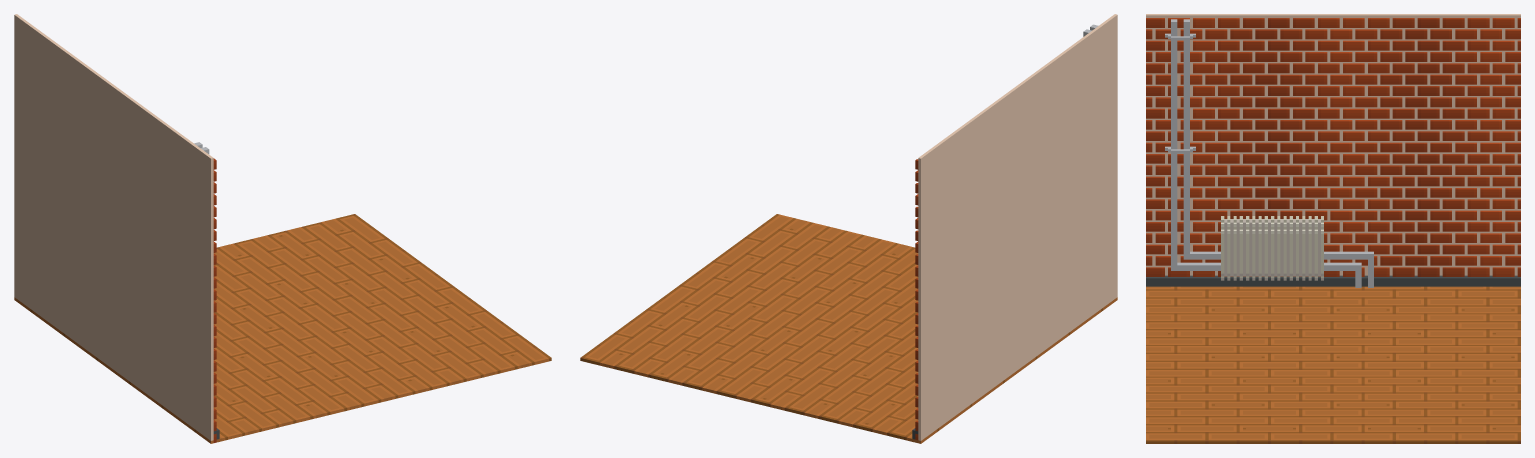
Rendered from room3.2_0_lev1_lev3.glb.
The picture shows the model from 3 angles, left to right: view 1: azimuth 30°, elevation 25°; view 2: azimuth 150°, elevation 25°; view 3: azimuth 270°, elevation 25°; orthographic projection. The views are drawn at different scales.
Visible parts, largest first — view 1: room3.2_0_lev1_lev3; view 2: room3.2_0_lev1_lev3; view 3: room3.2_0_lev1_lev3.
Part boxes in pixels (<box>): room3.2_0_lev1_lev3: <box>14,14,551,443</box>; room3.2_0_lev1_lev3: <box>580,14,1117,443</box>; room3.2_0_lev1_lev3: <box>1146,14,1520,443</box>.
Bounding box in the file's own units: 8.97 × 7.17 × 8.97.
1 material, 1 textured.
